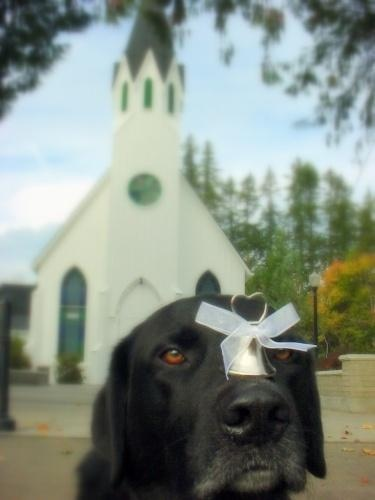dog: (82, 296, 327, 500)
